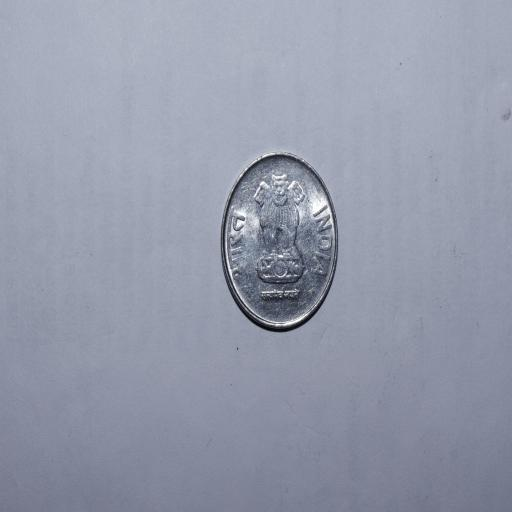rupee1: (216, 150, 338, 331)
